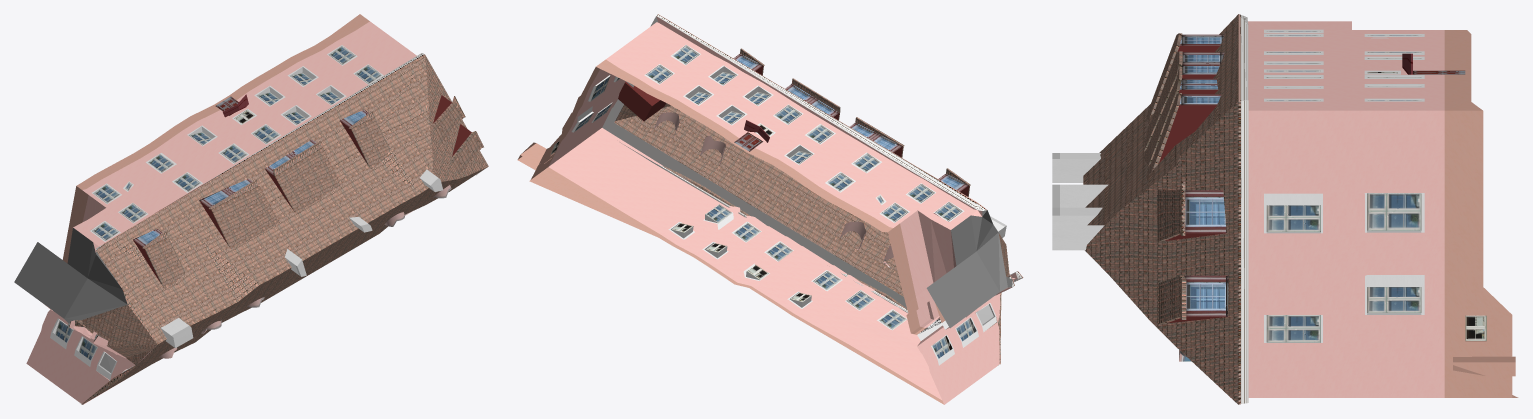
File: Toom-Ryytli_10_1-origo.obj
3 views of the same model, side by side, from view 1: azimuth 30°, elevation 25°; view 2: azimuth 150°, elevation 25°; view 3: azimuth 270°, elevation 25° (orthographic). The views are drawn at different scales.
Parts seen in each view (by area): view 1: Toom_Ryytli_10_1; view 2: Toom_Ryytli_10_1; view 3: Toom_Ryytli_10_1.
Part boxes in pixels (x1=…): Toom_Ryytli_10_1: x1=14, y1=14, x2=488, y2=404; Toom_Ryytli_10_1: x1=517, y1=14, x2=1023, y2=404; Toom_Ryytli_10_1: x1=1052, y1=14, x2=1518, y2=404.
Bounding box in the file's own units: 38.38 × 23 × 19.01.
